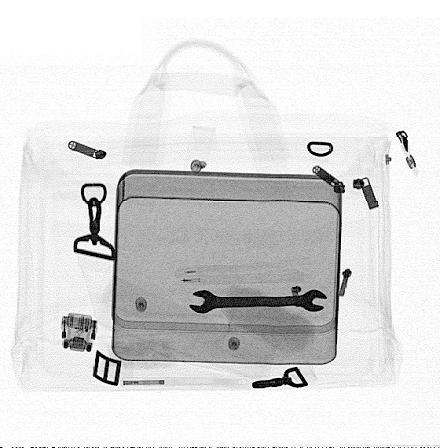Wrench: (188, 287, 329, 315)
